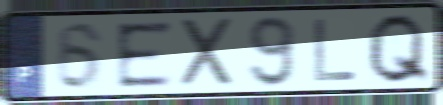6: (54, 21, 106, 91)
9: (245, 13, 298, 89)
E: (113, 19, 176, 91)
L: (311, 17, 359, 84)
Q: (363, 11, 433, 86)
X: (178, 15, 238, 91)
